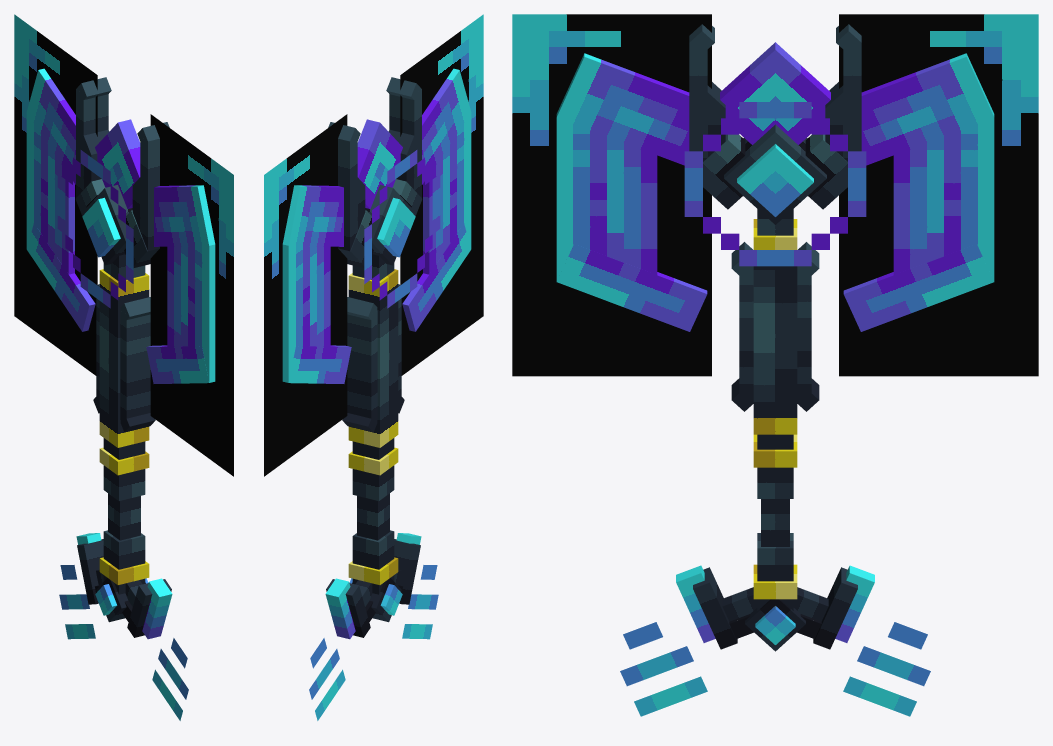
File: axe.gltf
The picture shows the model from 3 angles, left to right: view 1: azimuth 30°, elevation 25°; view 2: azimuth 150°, elevation 25°; view 3: azimuth 270°, elevation 25°; orthographic projection. The views are drawn at different scales.
Parts seen in each view (by area): view 1: cube (×37); view 2: cube (×37); view 3: cube (×34).
Boxes of the visible parts, x1=… form: cube (×37): x1=14, y1=14, x2=233, y2=720; cube (×37): x1=264, y1=14, x2=483, y2=720; cube (×34): x1=512, y1=14, x2=1038, y2=716.
Bounding box in the file's own units: 0.1376 × 1.36 × 0.9062.
4 materials, 4 textured.
